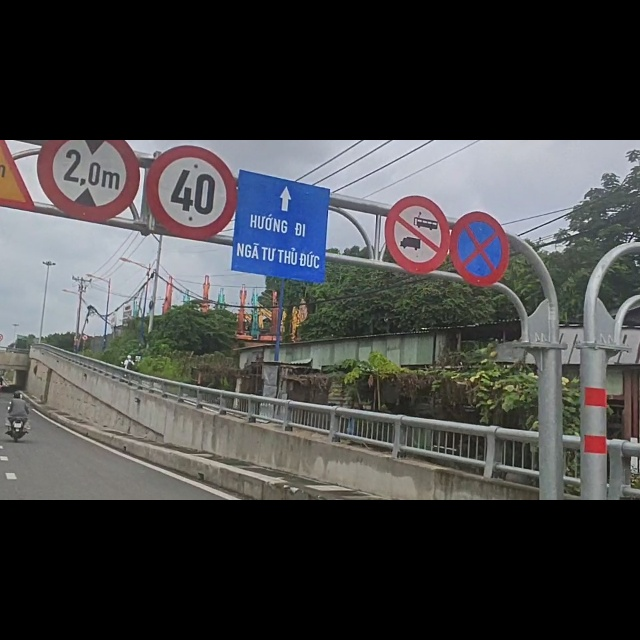bien_chi_dan: (149, 12, 237, 179), (39, 1, 141, 143), (384, 100, 450, 239), (453, 127, 514, 260)
